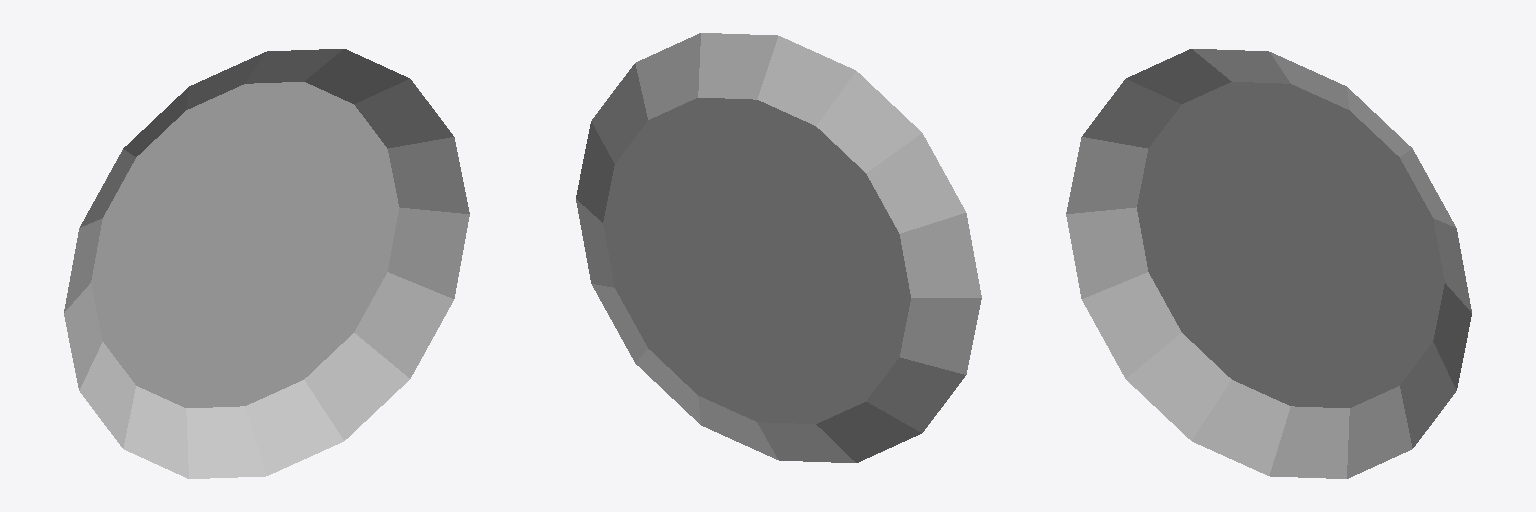
File: portal_circle.obj
The picture shows the model from 3 angles: view 1: azimuth 30°, elevation 25°; view 2: azimuth 150°, elevation 25°; view 3: azimuth 330°, elevation 25°; orthographic projection.
Parts seen in each view (by area): view 1: PortalCircle-col; view 2: PortalCircle-col; view 3: PortalCircle-col.
Part boxes in pixels (left/top/right/bottom): PortalCircle-col: left=64, top=49, right=469, bottom=478; PortalCircle-col: left=576, top=33, right=981, bottom=462; PortalCircle-col: left=1066, top=49, right=1471, bottom=478.
Bounding box in the file's own units: 3.16 × 3.16 × 0.291.